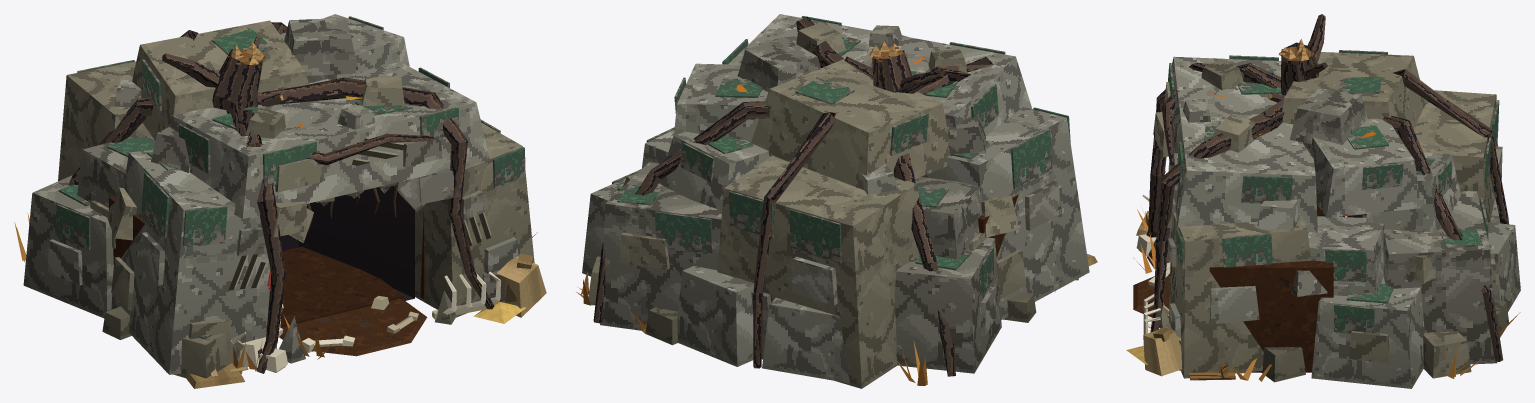
Rendered from fp_den.glb.
3 renders of one model, left to right at view 1: azimuth 30°, elevation 25°; view 2: azimuth 150°, elevation 25°; view 3: azimuth 270°, elevation 25°, orthographic. The views are drawn at different scales.
Visible parts, largest first — view 1: fp_den, deco_sacks, deco_bones, deco_grass; view 2: fp_den, deco_grass; view 3: fp_den, deco_sacks, deco_grass, deco_bones.
Part boxes in pixels (<box>): fp_den: <box>23,14,534,378</box>; deco_sacks: <box>186,254,546,388</box>; deco_bones: <box>231,271,500,372</box>; deco_grass: <box>14,96,537,374</box>; fp_den: <box>582,14,1089,388</box>; deco_grass: <box>576,58,1055,385</box>; fp_den: <box>1133,14,1520,388</box>; deco_sacks: <box>1126,170,1235,380</box>; deco_grass: <box>1133,94,1520,381</box>; deco_bones: <box>1136,194,1170,334</box>.
Size of the model in its own units: 5.11 by 3.08 by 4.58.
Materials: 34 (16 with a texture image).
